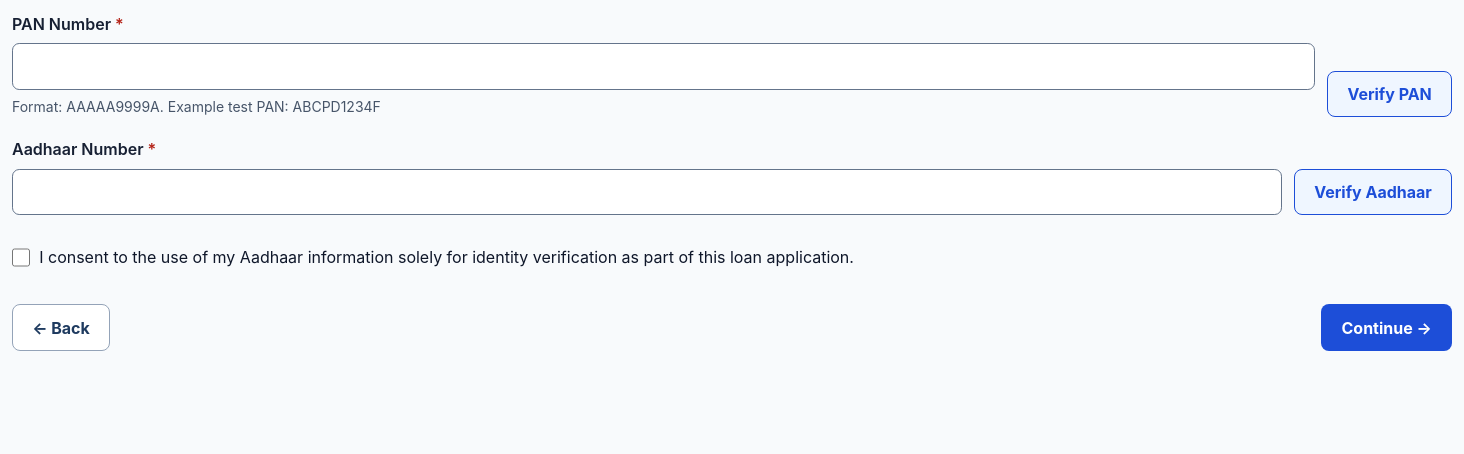
Test: Step 3 KYC › requires consent and blocks Continue until both identifiers are verified
The width and height of the screenshot is (1464, 454).
Click the button "Continue →": (1387, 328) top-left (1321, 304), bottom-right (1452, 351)
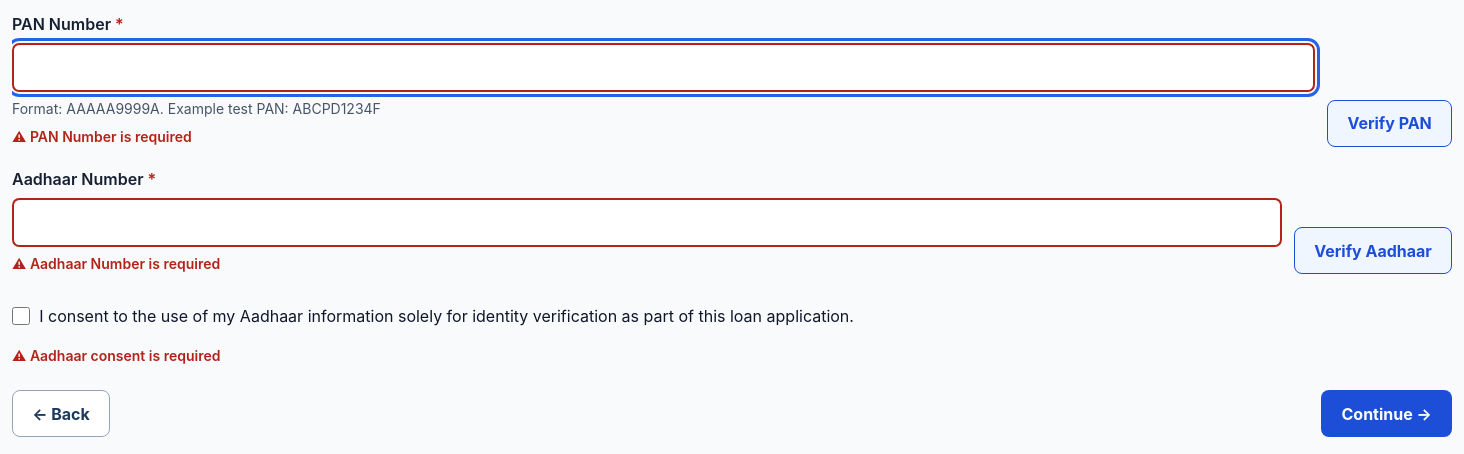
Expected: the text "Aadhaar consent is required" is shown, top-left (30, 346), bottom-right (220, 364)
